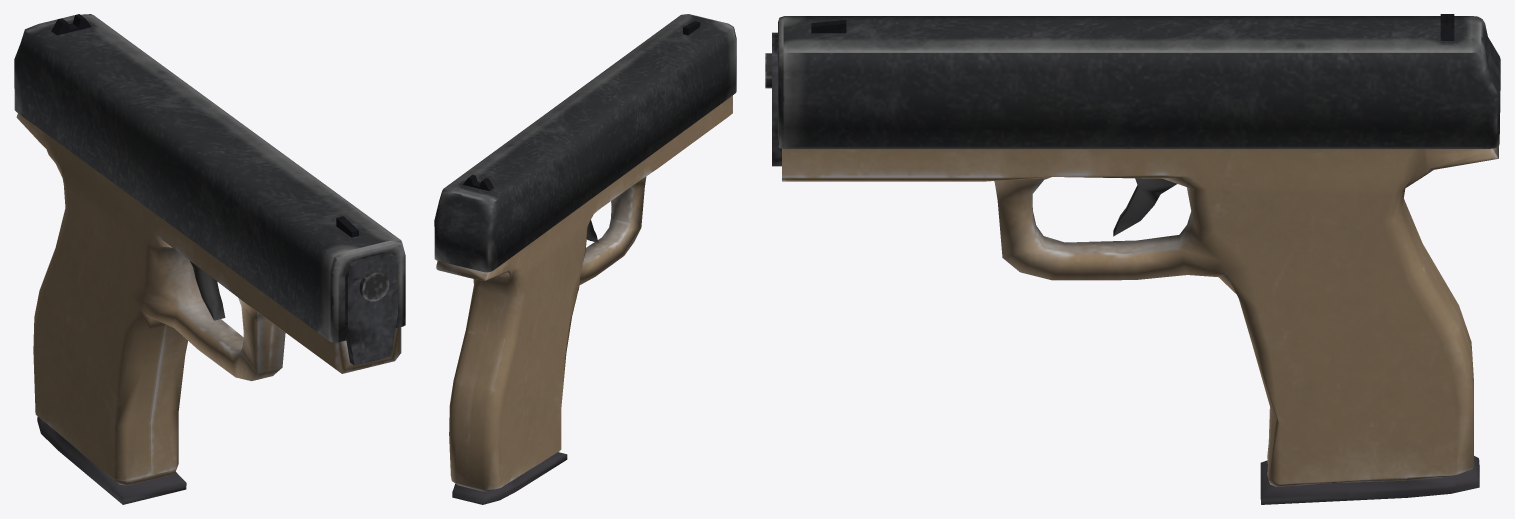
Rendered from pistol.glb.
The picture shows the model from 3 angles, left to right: view 1: azimuth 30°, elevation 25°; view 2: azimuth 150°, elevation 25°; view 3: azimuth 270°, elevation 25°; orthographic projection. The views are drawn at different scales.
Parts seen in each view (by area): view 1: Slide, Body, front, Magazine, Trigger, Slide.001, BarrelTip; view 2: Slide, Body, Magazine, Slide.001; view 3: Body, Slide, Magazine, Trigger, front, Slide.001.
Part boxes in pixels (x1,y1,x2,y2): Slide: (14,14,405,342); Body: (16,113,401,485); front: (345,252,397,365); Magazine: (37,416,186,504); Trigger: (190,261,225,320); Slide.001: (51,14,358,237); BarrelTip: (359,270,389,301); Slide: (434,14,736,272); Body: (436,95,732,491); Magazine: (452,452,567,504); Slide.001: (463,21,700,191); Body: (782,146,1498,486); Slide: (778,16,1500,148); Magazine: (1260,456,1479,504); Trigger: (1113,178,1176,236); front: (772,32,781,166); Slide.001: (811,14,1454,40).
Size of the model in its own units: 0.0332 by 0.1772 by 0.2524.
Materials: 7 (6 with a texture image).
